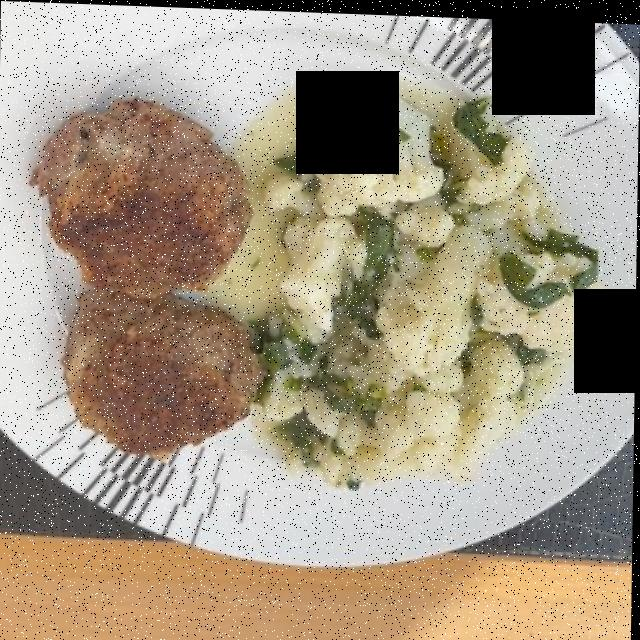beef-minced-only-meat: (41, 93, 259, 451)
butter: (252, 102, 310, 312)
